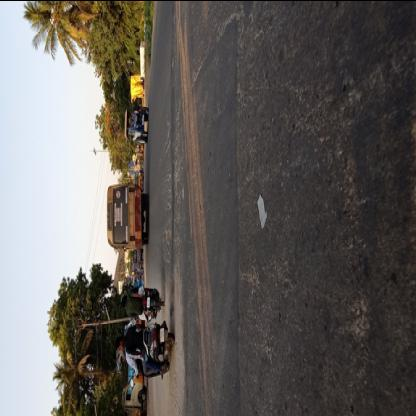speed-bumps: (203, 1, 250, 399), (160, 4, 182, 288)
